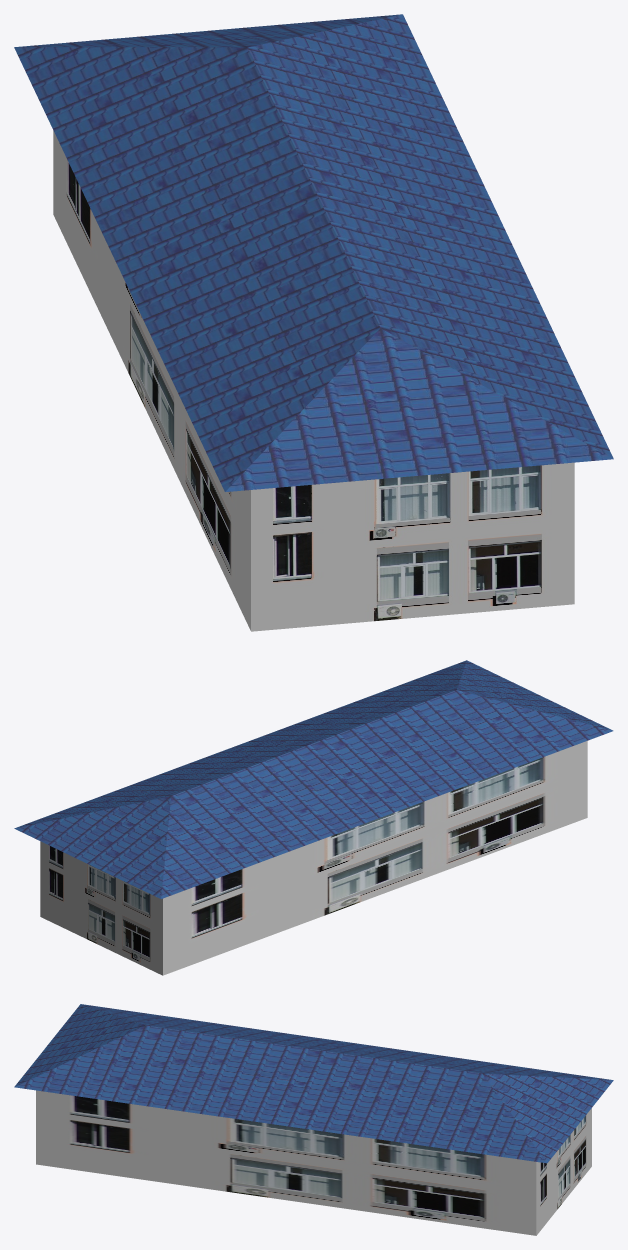
3 views of the same model, one above another, from view 1: azimuth 30°, elevation 25°; view 2: azimuth 150°, elevation 25°; view 3: azimuth 270°, elevation 25° (orthographic). The views are drawn at different scales.
Parts seen in each view (by area): view 1: CityEngineMaterial_10_m, CityEngineMaterial_9_m; view 2: CityEngineMaterial_10_m, CityEngineMaterial_9_m; view 3: CityEngineMaterial_10_m, CityEngineMaterial_9_m.
Boxes of the visible parts, x1,y1,x2,y2 form: CityEngineMaterial_10_m: [14, 14, 613, 491]; CityEngineMaterial_9_m: [53, 131, 574, 631]; CityEngineMaterial_10_m: [14, 660, 613, 898]; CityEngineMaterial_9_m: [40, 741, 587, 975]; CityEngineMaterial_10_m: [14, 1004, 613, 1163]; CityEngineMaterial_9_m: [36, 1090, 591, 1235].
Size of the model in its own units: 20.31 by 6.9 by 32.3.
